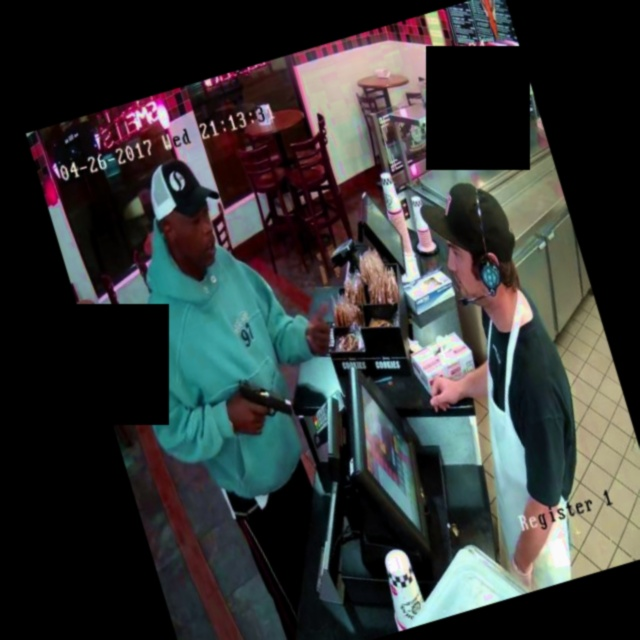gun: (213, 351, 316, 441)
